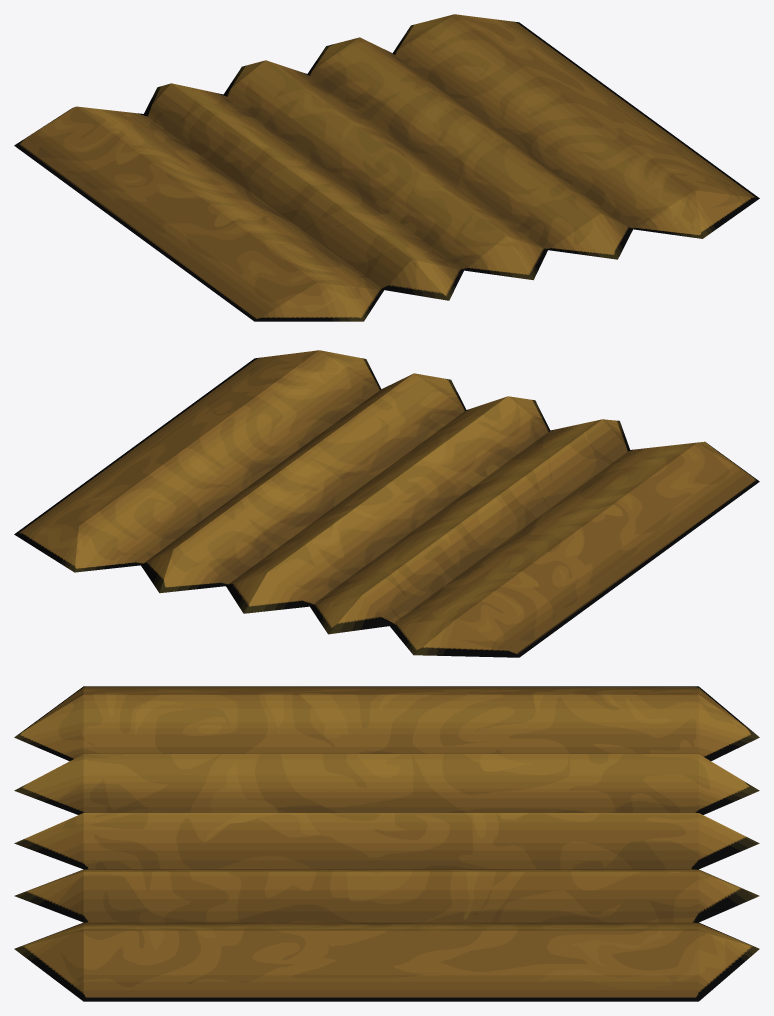
The model's file is FarmLand.fbx.
3 renders of one model, top to bottom at view 1: azimuth 30°, elevation 25°; view 2: azimuth 150°, elevation 25°; view 3: azimuth 270°, elevation 25°, orthographic. The views are drawn at different scales.
Parts seen in each view (by area): view 1: Plane; view 2: Plane; view 3: Plane.
Boxes of the visible parts, x1,y1,x2,y2 form: Plane: (14,14,759,321); Plane: (14,350,759,657); Plane: (14,686,759,1001).
Size of the model in its own units: 600 by 27.14 by 600.
Materials: 1 (1 with a texture image).
